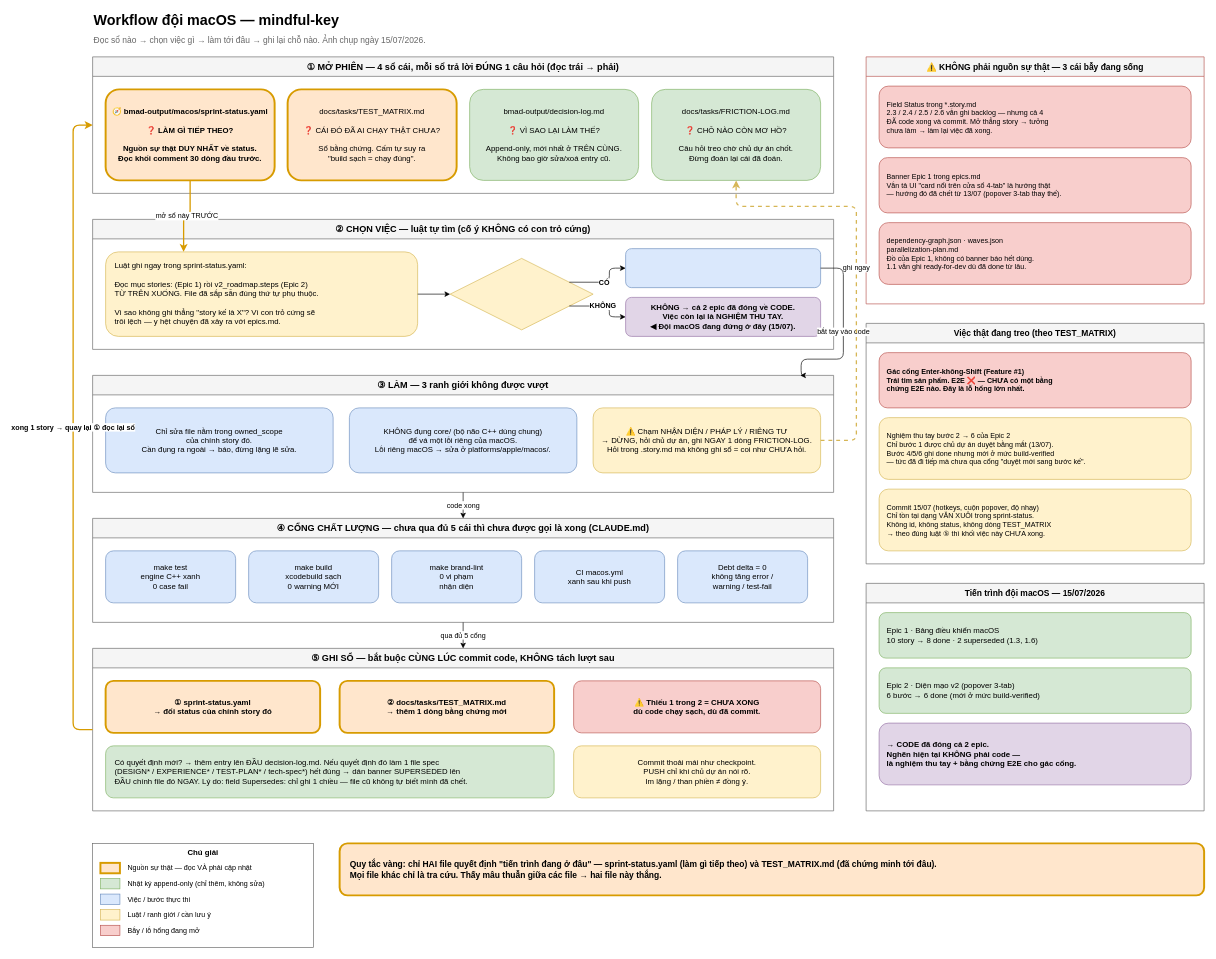
Image size: 1216x959. Some labels were removed from this diagram. Each missing label, with the centre of its shape:
"CÓ → làm đúng dòng đó. Mở file ở field file: của story." belongs at pixel 723 268.
"Dòng ĐẦU TIÊN có status ≠ done và ≠ superseded?" belongs at pixel 521 294.
